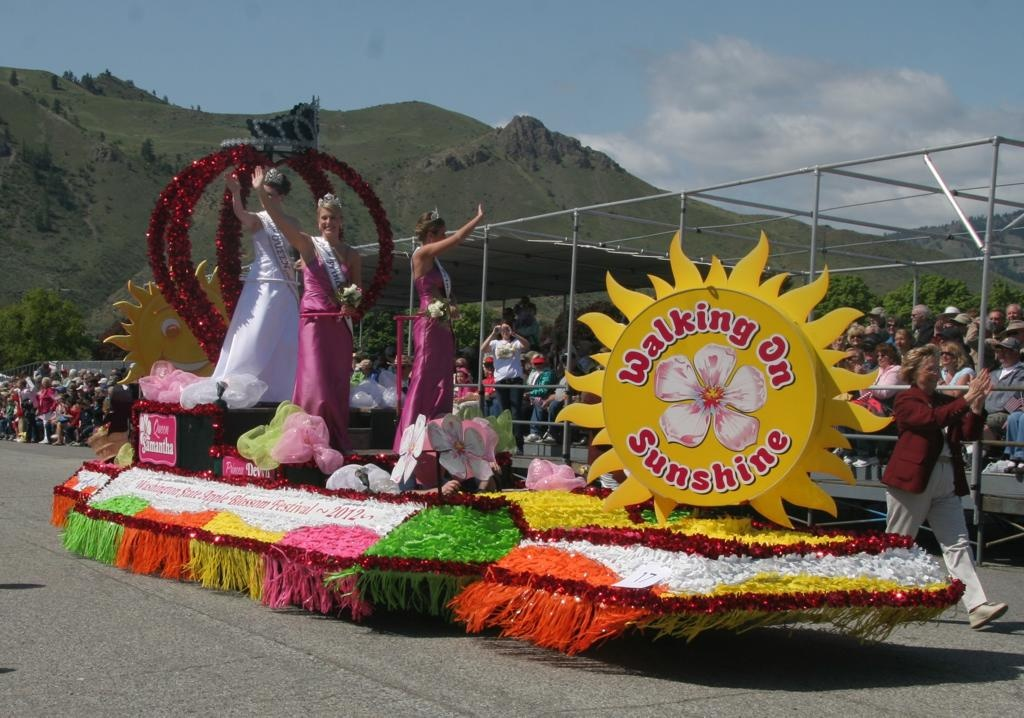human_face: (916, 354, 940, 387), (320, 208, 338, 234), (258, 186, 278, 206), (434, 224, 448, 246), (988, 310, 1000, 326), (996, 346, 1010, 358), (1006, 307, 1018, 321), (876, 351, 888, 365), (894, 331, 906, 345), (868, 312, 880, 324), (938, 332, 950, 344), (940, 349, 950, 363), (910, 309, 920, 323), (848, 332, 862, 342), (1010, 328, 1020, 340), (864, 330, 874, 342), (945, 312, 955, 324), (500, 324, 508, 338), (835, 336, 845, 346), (865, 352, 875, 362), (887, 320, 895, 332), (912, 330, 920, 340), (844, 352, 852, 362), (852, 353, 860, 363), (456, 371, 464, 381), (534, 361, 542, 369), (484, 364, 492, 372), (454, 364, 460, 371)
